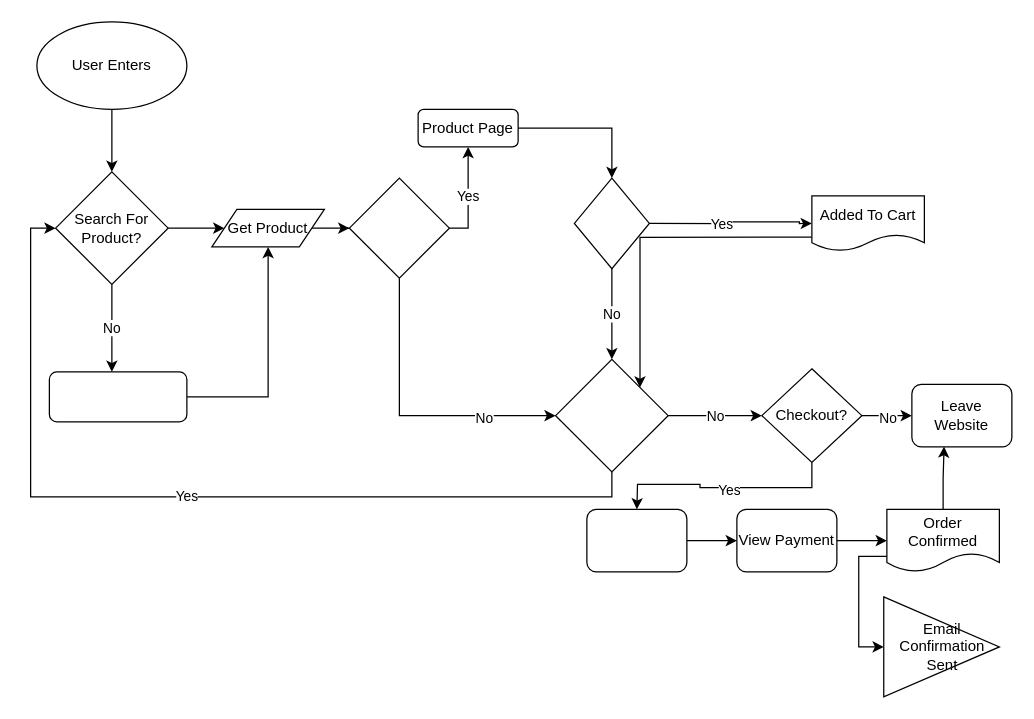
Image size: 1034x719. Some labels were removed from this diagram. The centre of each missing label's shape, as x and y in pixels:
"Add To Cart?" goes at pixel 611 223.
"Continue Shopping?" goes at pixel 611 415.
"Explore Products" goes at pixel 117 396.
"View Cart" goes at pixel 636 540.
"View Product" goes at pixel 398 227.
